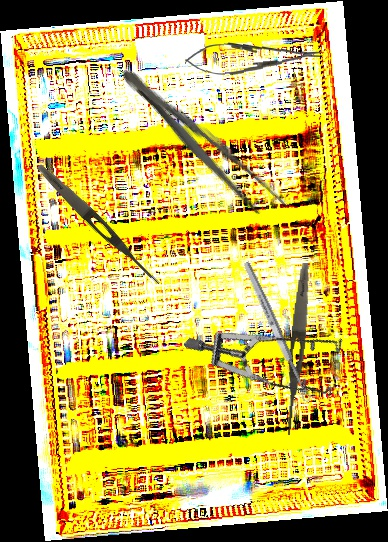Dressing Forceps: (110, 59, 293, 228), (33, 160, 165, 289), (281, 262, 314, 436)
Needle Holder: (184, 37, 322, 79)
Speculum: (182, 262, 364, 442)
Surgical Spoon: (241, 260, 313, 404)
